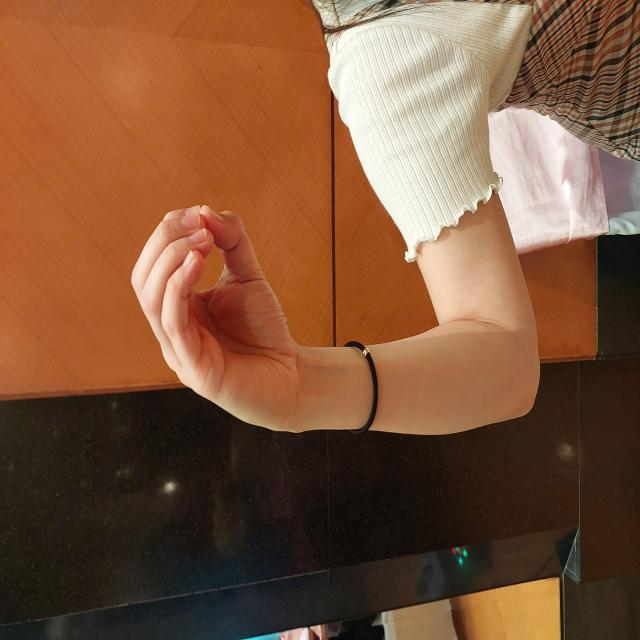O: (207, 130, 441, 302)
